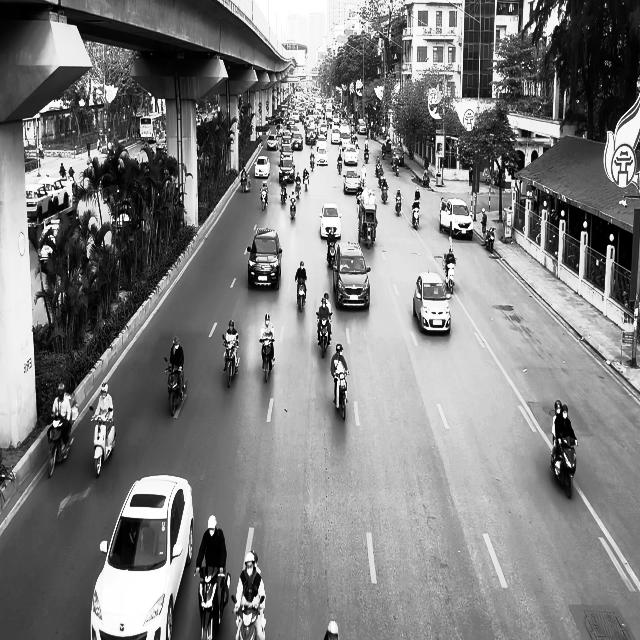car: (90, 474, 194, 639), (332, 240, 372, 310), (413, 271, 452, 335), (246, 226, 283, 290), (439, 198, 474, 240), (319, 203, 342, 239), (344, 168, 361, 194), (254, 155, 270, 178)
motorbike: (195, 566, 231, 640), (47, 401, 79, 478), (90, 405, 116, 478), (550, 434, 578, 499), (232, 594, 266, 640), (164, 357, 188, 416), (223, 334, 240, 388), (333, 369, 349, 420), (316, 312, 332, 358), (260, 337, 275, 382), (296, 278, 307, 312), (445, 260, 455, 294), (485, 227, 496, 252), (327, 239, 336, 268), (411, 203, 420, 229), (241, 173, 252, 193), (381, 182, 389, 204), (260, 188, 268, 210), (395, 194, 403, 216), (290, 196, 296, 219)
